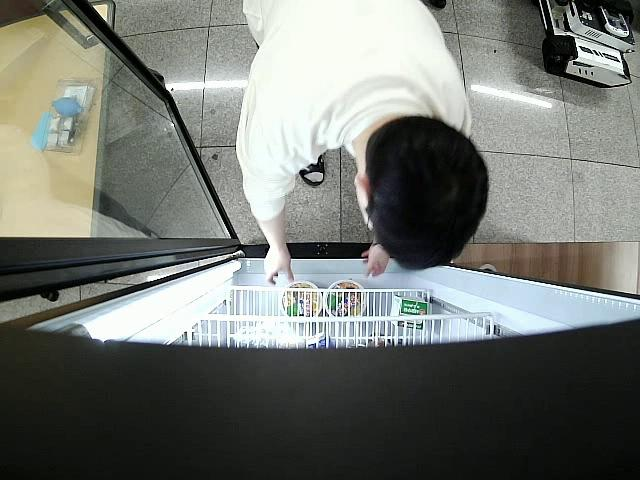00_hand: (263, 247, 293, 287), (361, 245, 391, 279)
